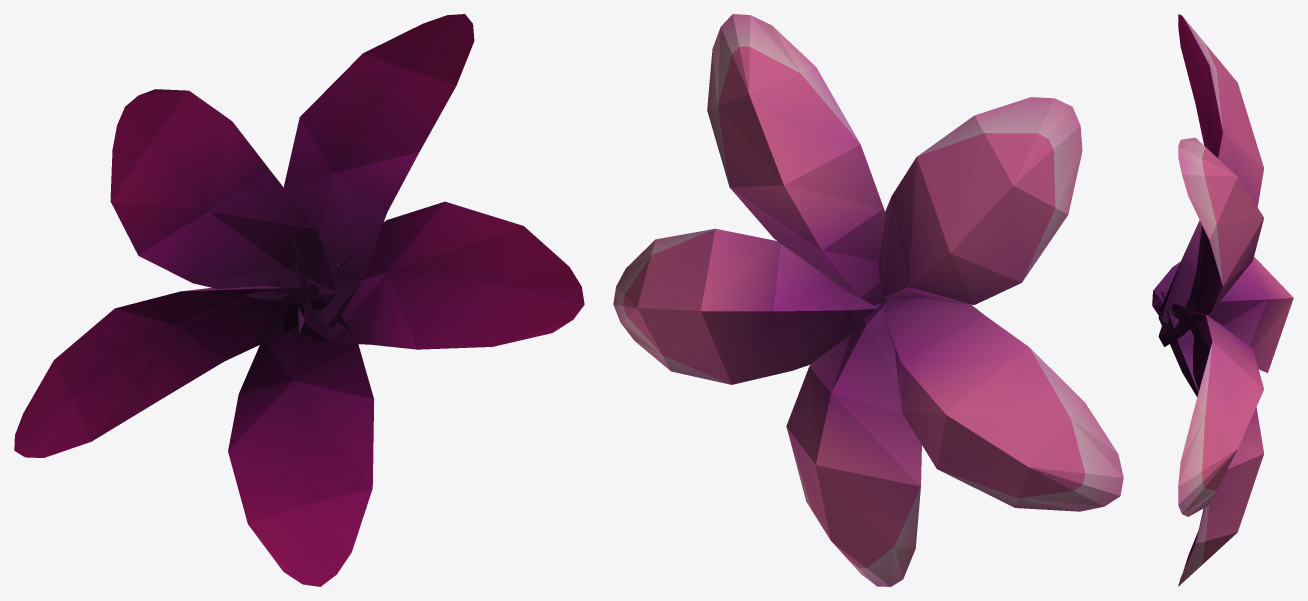
The model's file is FlowerPink.fbx.
3 views of the same model, side by side, from view 1: azimuth 30°, elevation 25°; view 2: azimuth 150°, elevation 25°; view 3: azimuth 270°, elevation 25° (orthographic). The views are drawn at different scales.
Visible parts, largest first — view 1: FlowerPink; view 2: FlowerPink; view 3: FlowerPink.
Part boxes in pixels (x1=…): FlowerPink: x1=14, y1=14, x2=584, y2=586; FlowerPink: x1=613, y1=14, x2=1123, y2=586; FlowerPink: x1=1152, y1=14, x2=1293, y2=586.
Bounding box in the file's own units: 59 × 56.44 × 14.58.
